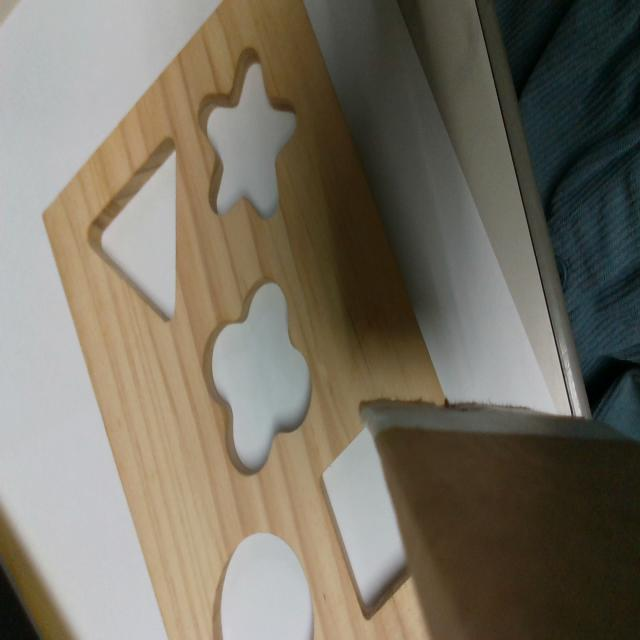circle: (220, 535, 314, 633)
flower: (203, 277, 314, 474)
square: (320, 427, 412, 620)
star: (196, 48, 295, 214)
triangle: (86, 131, 178, 320)
